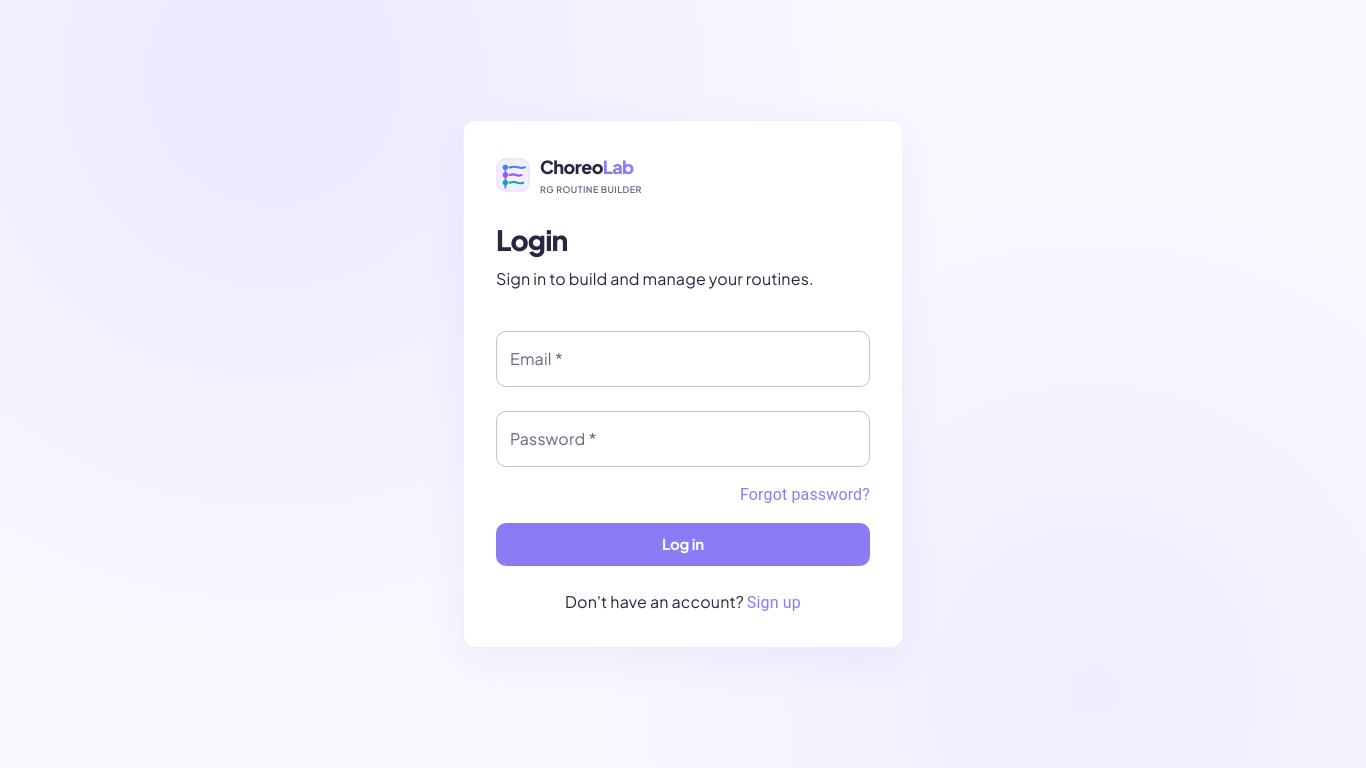
Test: LoginPage › surfaces network login errors in an alert
This screenshot has width=1366, height=768.
Step 1. Type "coach@test.com" into the field labelled "Email *" → (683, 359), box [496,331,870,387]
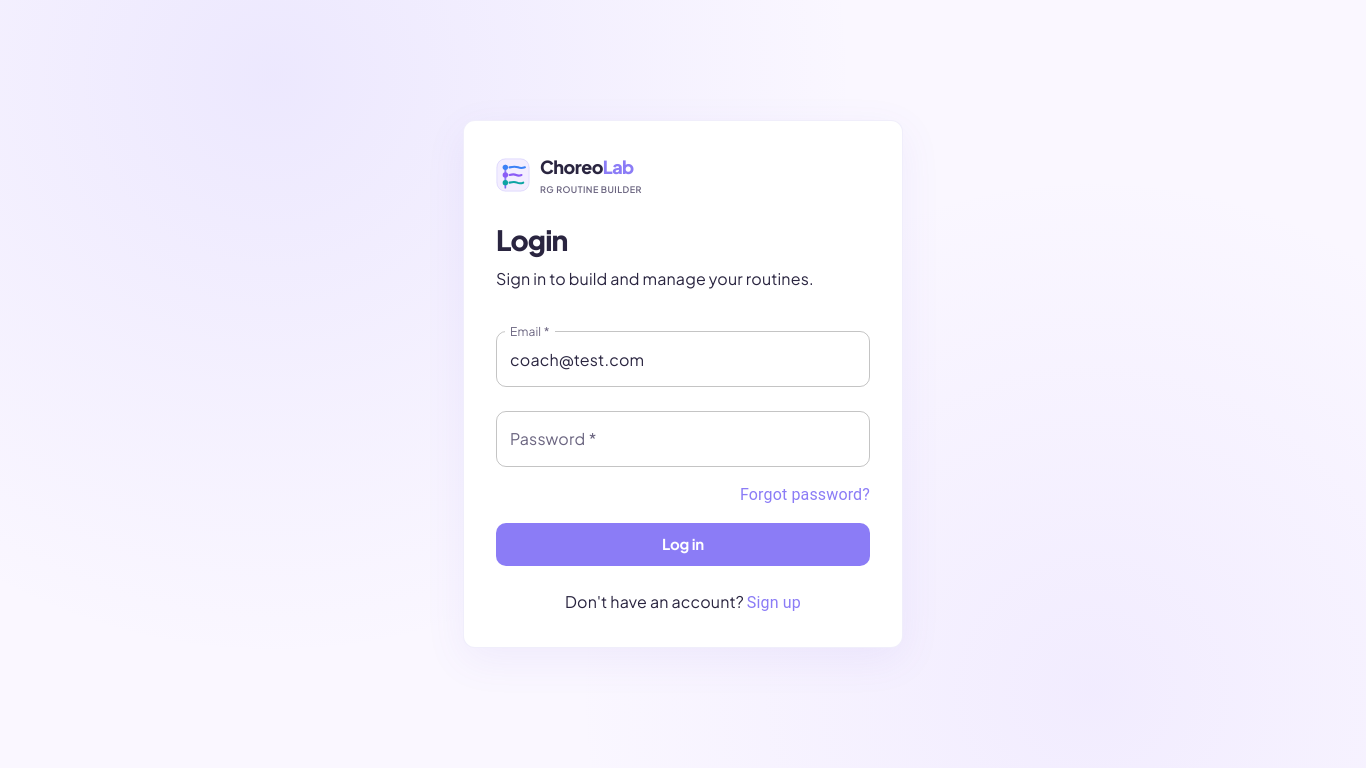
Step 2. Type "wrong-pass" into the password field labelled "Password *" → (683, 439), box [496,411,870,467]
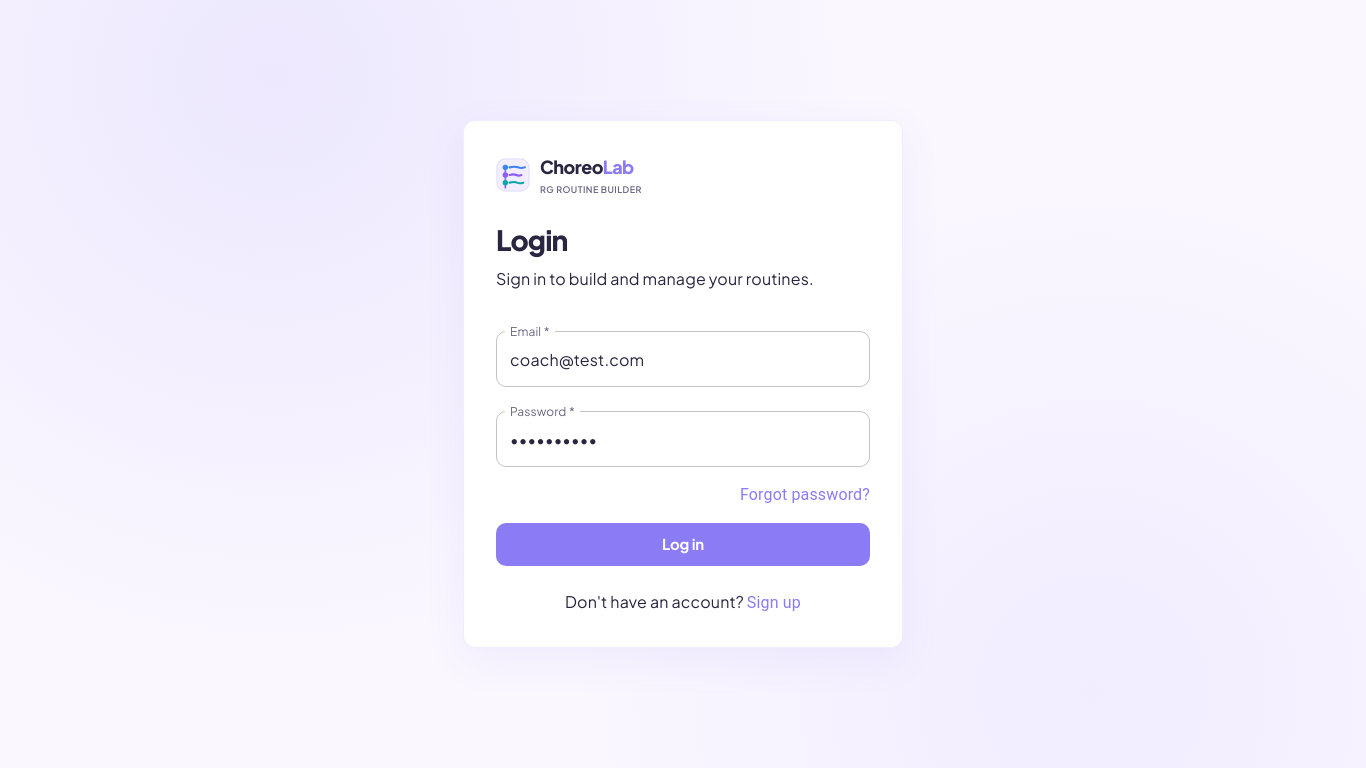
Step 3. Click the button "Log in" → (683, 545), box [496,523,870,566]
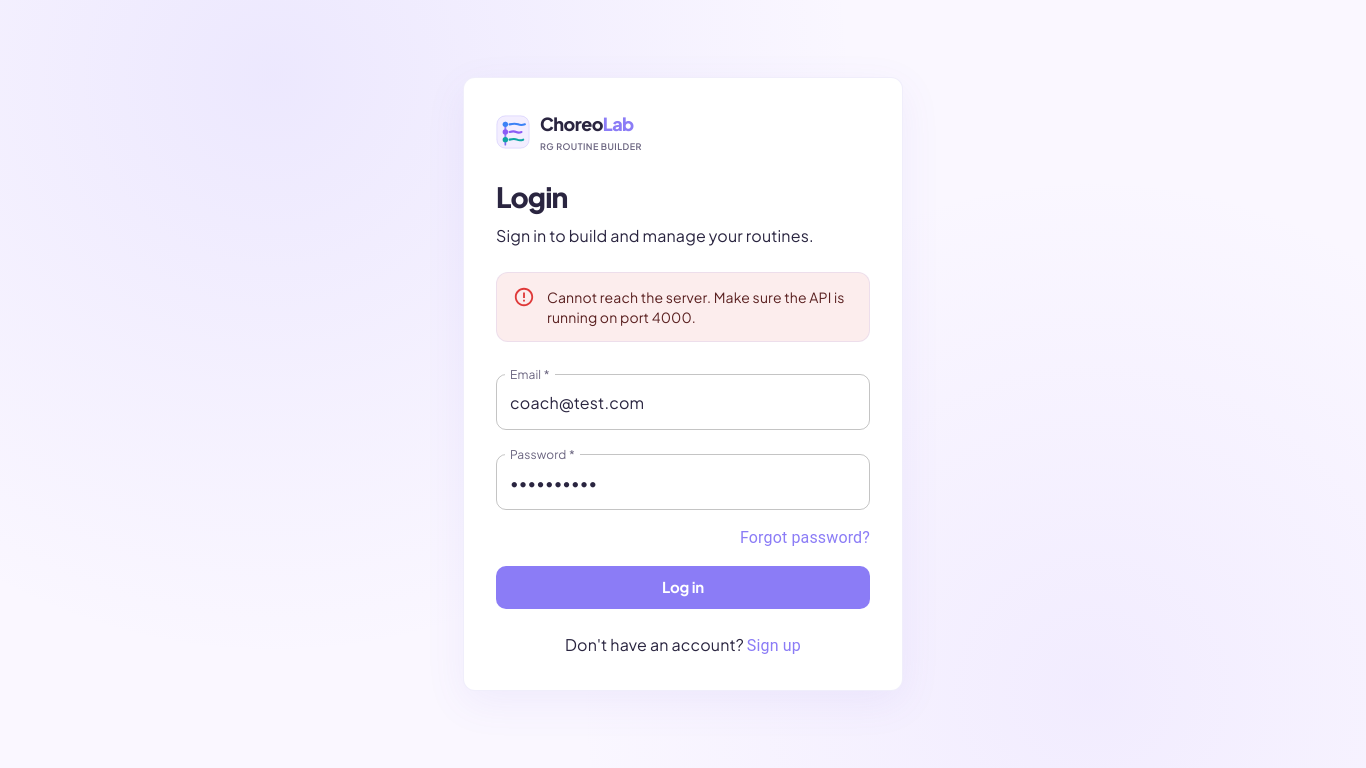
Now the text "Cannot reach the server. Make sure the API is running on port 4000." is shown, box [547,279,853,335]
